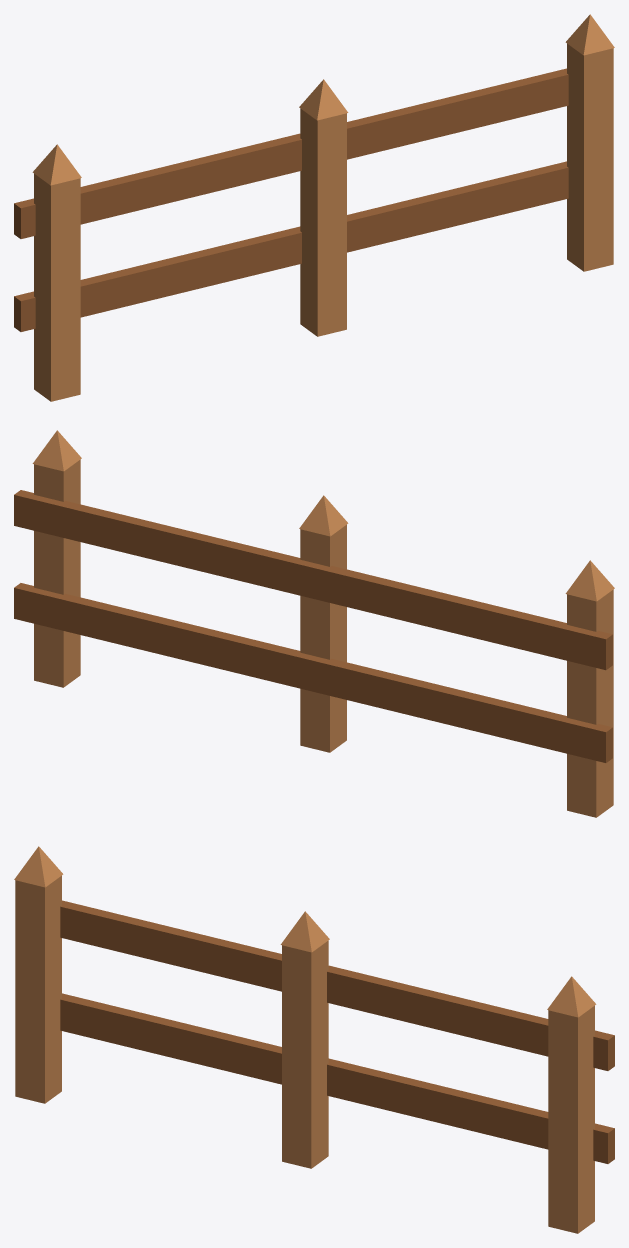
Rendered from fence.glb.
3 views of the same model, one above another, from view 1: azimuth 30°, elevation 25°; view 2: azimuth 150°, elevation 25°; view 3: azimuth 330°, elevation 25° (orthographic).
Parts seen in each view (by area): view 1: fence; view 2: fence; view 3: fence.
Boxes of the visible parts, <box> form: fence: <box>14,14,614,401</box>; fence: <box>14,430,614,817</box>; fence: <box>14,846,614,1233</box>.
Bounding box in the file's own units: 2 × 0.8 × 0.133.
